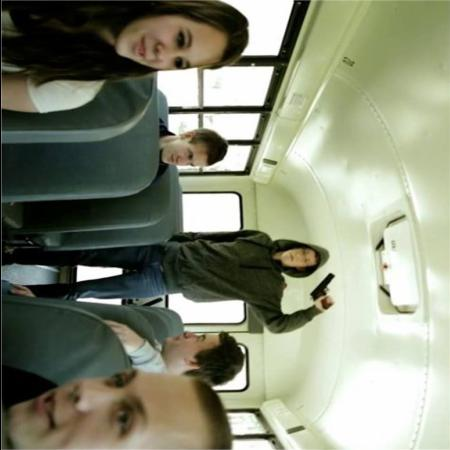Pistol: (310, 272, 336, 308)
